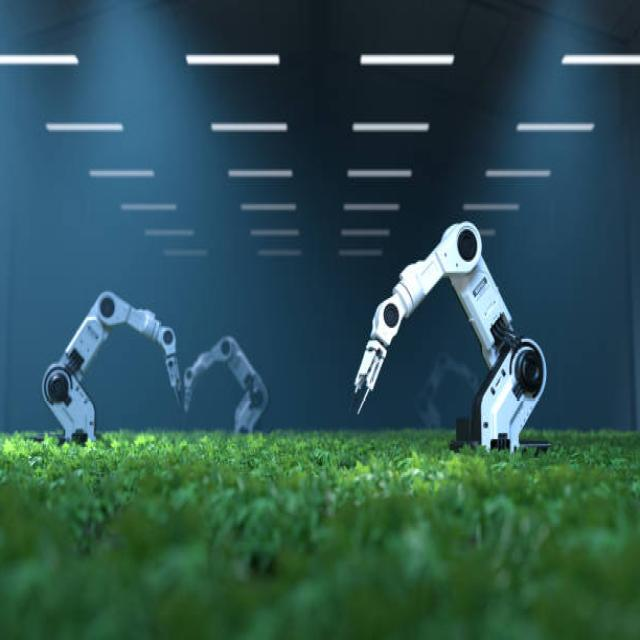Robotic-arm: (347, 208, 552, 462), (39, 292, 177, 444), (185, 317, 277, 438)
